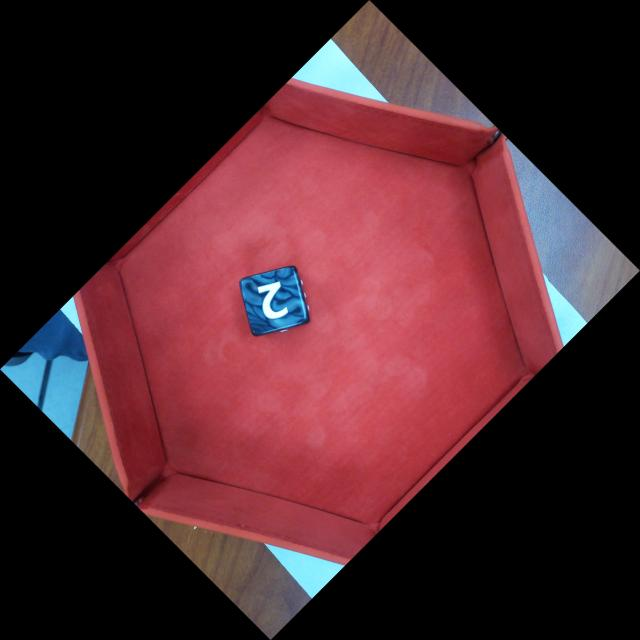dice: (242, 266, 308, 334)
